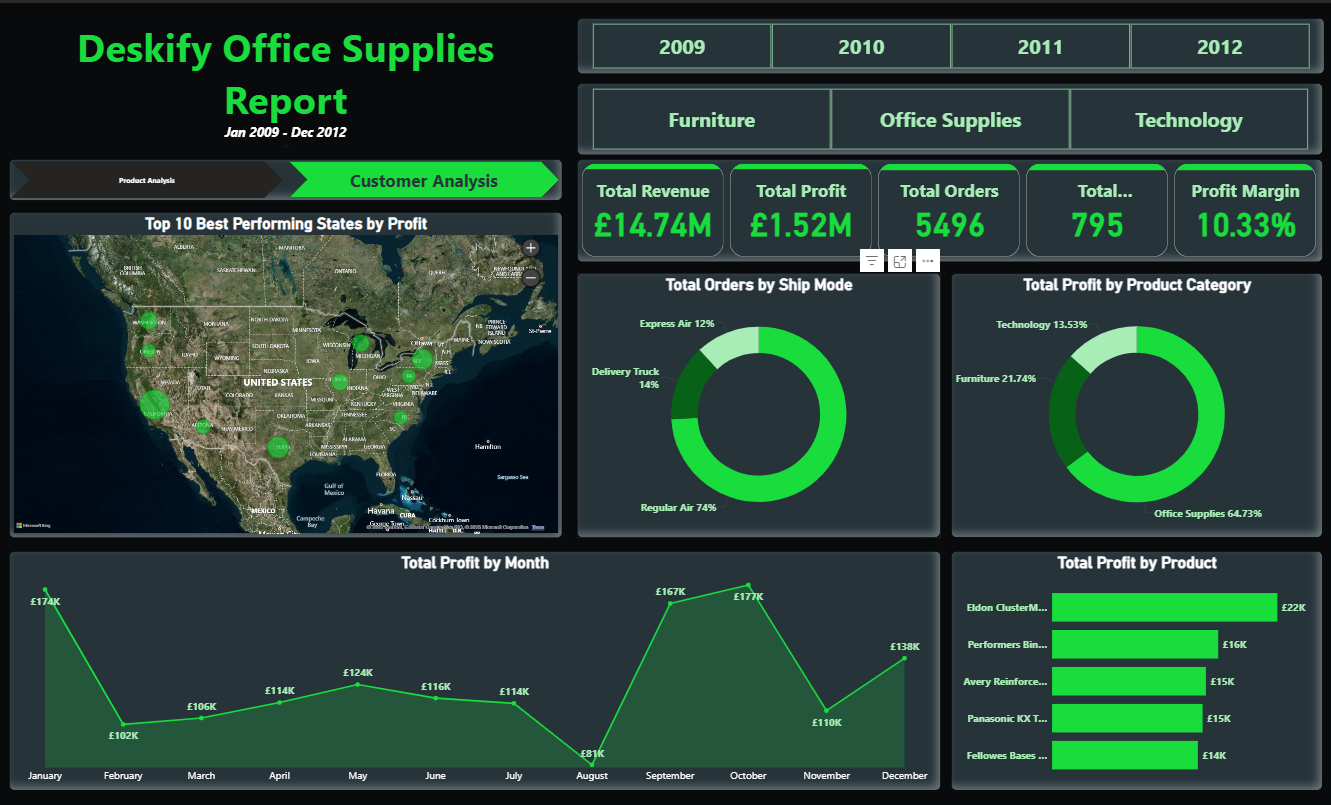

The dashboard page shown, as its layout file describes it:
{"tool":"powerbi","page":{"name":"Product Analysis","canvas":[2500,1500],"ordinal":0},"visuals":[{"type":"cardVisual","fields":{"Data":["Calculated Measures.Total Revenue","Calculated Measures.Total Profit","Calculated Measures.Total Orders","Calculated Measures.Total Customers","Calculated Measures.Profit Margin"]},"box":[1085,292.5,1395,192.5],"z":0},{"type":"map","title":"Top 10 Best Performing States by Profit","fields":{"Size":["Calculated Measures.Total Profit"],"Category":["LocationDim.State"]},"box":[22.5,390,1035,610],"z":1000},{"type":"donutChart","fields":{"Y":["Calculated Measures.Total Profit"],"Category":["ProductDim.Product Category"]},"box":[1785,505,695,495],"z":2000},{"type":"areaChart","title":"Total Profit by Month","fields":{"Category":["CalenderDim.MonthName"],"Y":["Calculated Measures.Total Profit"]},"box":[22.5,1025,1742.5,447.5],"z":3000},{"type":"clusteredBarChart","title":"Total Profit by Product","fields":{"Y":["Calculated Measures.Total Profit"],"Category":["ProductDim.Product Name"]},"box":[1785,1025,695,447.5],"z":4000},{"type":"donutChart","fields":{"Y":["Calculated Measures.Total Orders"],"Category":["OrderDim.Ship Mode"]},"box":[1085,505,680,495],"z":5000},{"type":"slicer","fields":{"Values":["CalenderDim.Year"]},"box":[1085,27.5,1397.5,105],"z":6000},{"type":"slicer","fields":{"Values":["ProductDim.Product Category"]},"box":[1085,150,1395,135],"z":7000},{"type":"pageNavigator","box":[22.5,292.5,1035,77.5],"z":8000},{"type":"textbox","box":[22.5,27.5,1035,257.5],"z":9000}]}

Visuals, with their boxes in screenshot pixels (x1, y1, x2, y2), scaled from the page's 2500x1500 canvas onto the 1331x805 screenshot:
cardVisual - Calculated Measures.Total Revenue x Calculated Measures.Total Profit: 578 157 1320 260
"Top 10 Best Performing States by Profit" map: 12 209 563 537
donutChart - Calculated Measures.Total Profit x ProductDim.Product Category: 950 271 1320 537
"Total Profit by Month" areaChart: 12 550 940 790
"Total Profit by Product" clusteredBarChart: 950 550 1320 790
donutChart - Calculated Measures.Total Orders x OrderDim.Ship Mode: 578 271 940 537
slicer - CalenderDim.Year: 578 15 1322 71
slicer - ProductDim.Product Category: 578 80 1320 153
pageNavigator: 12 157 563 199
textbox: 12 15 563 153
